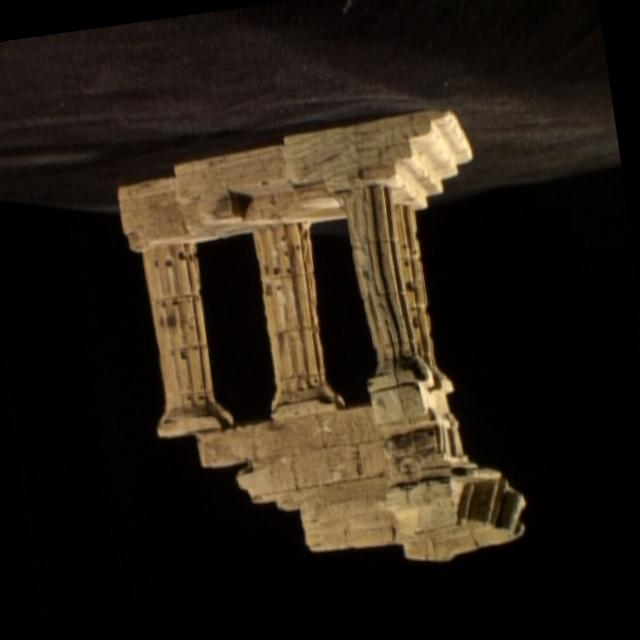Instance-Segmentation: (119, 111, 525, 560)
